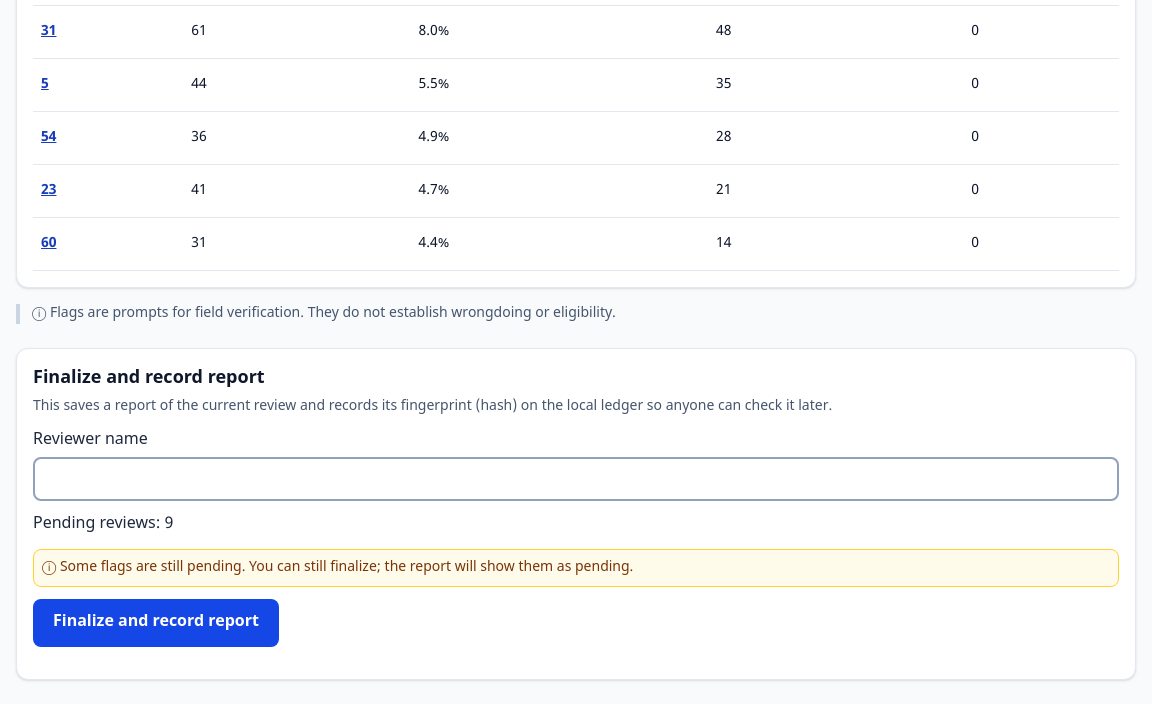
Test: FinalizePanel › copies the full report hash to the clipboard
(page scrolled)
Type "R. Sharma" into the field labelled "Reviewer name" at [576, 479], box [33, 457, 1119, 501]
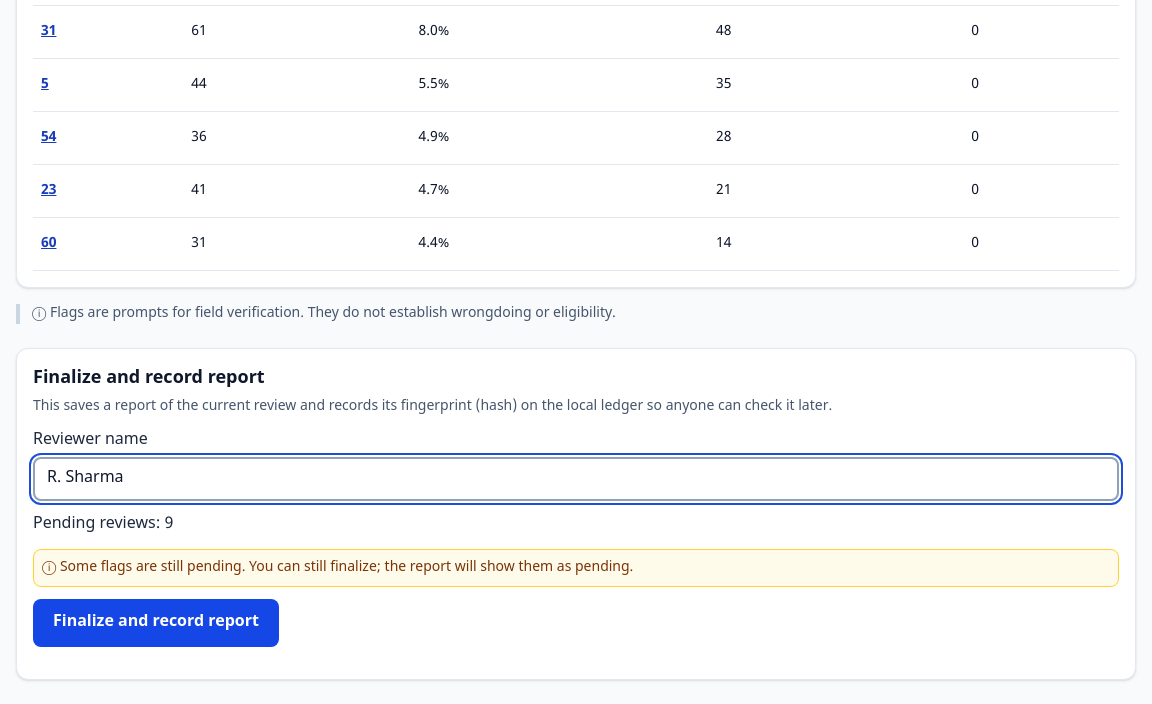
Click the button "Finalize and record report" at [156, 623], box [33, 599, 279, 647]
(page scrolled)
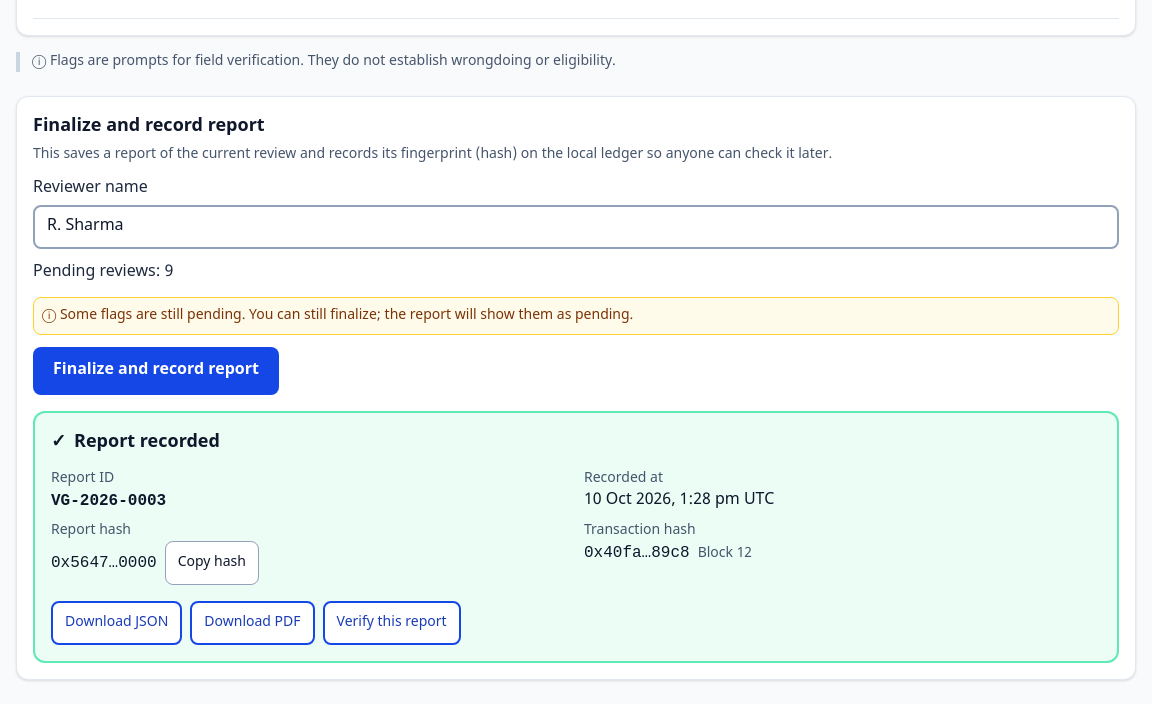
Click the button "Copy hash" at [212, 563], box [165, 541, 259, 585]
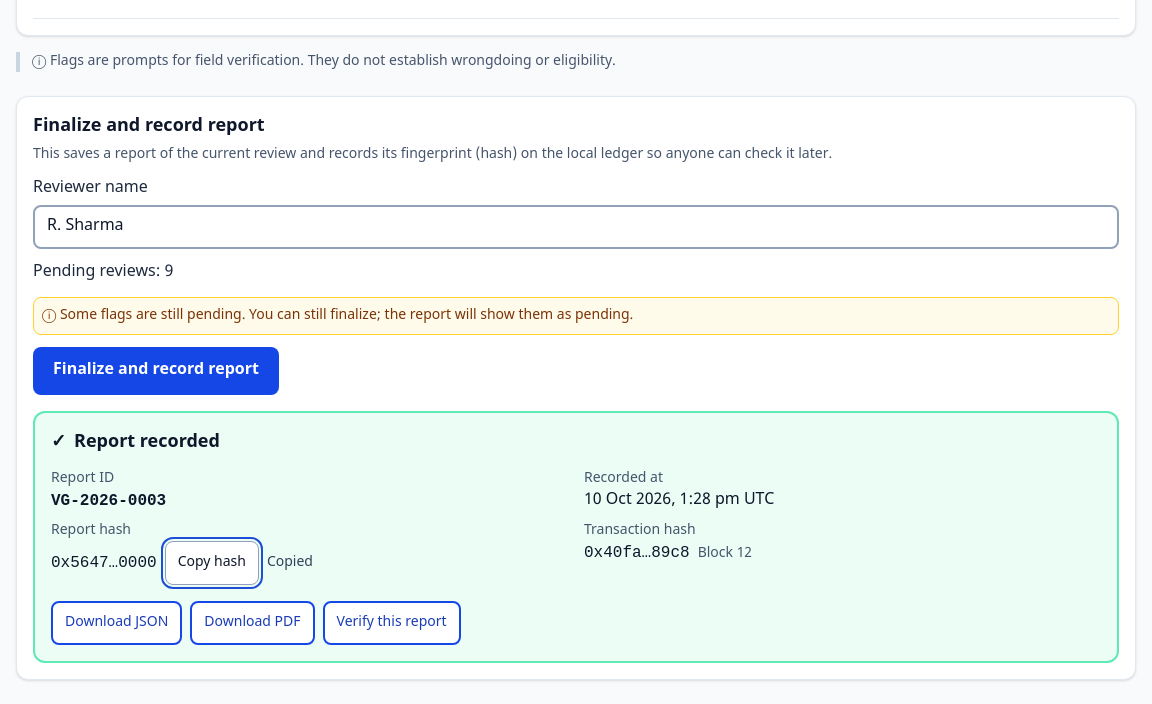
Check: the text "Copied" is shown, box [267, 553, 313, 573]
